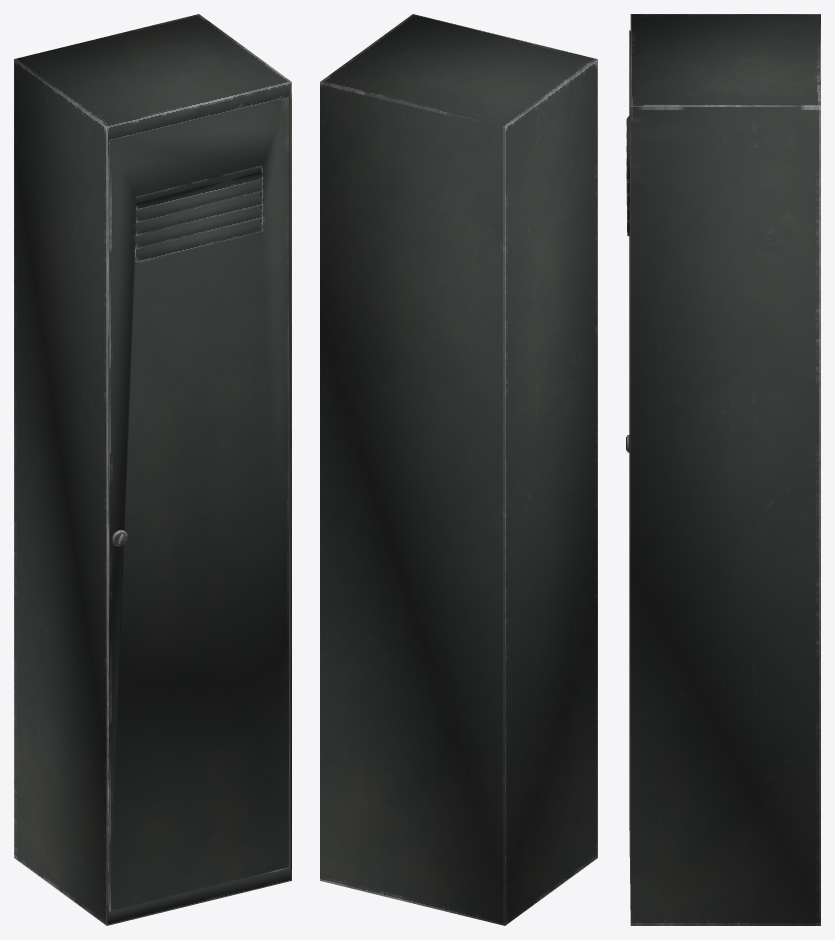
Rendered from locker_dark.glb.
The picture shows the model from 3 angles, left to right: view 1: azimuth 30°, elevation 25°; view 2: azimuth 150°, elevation 25°; view 3: azimuth 270°, elevation 25°; orthographic projection. The views are drawn at different scales.
Parts seen in each view (by area): view 1: Door, Locker; view 2: Locker; view 3: Locker, Door.
Boxes of the visible parts, x1,y1,x2,y2 form: Door: [109, 97, 288, 911]; Locker: [14, 14, 291, 925]; Locker: [320, 14, 597, 925]; Locker: [630, 14, 820, 925]; Door: [626, 30, 630, 909].
Bounding box in the file's own units: 0.3899 × 1.61 × 0.3468.
1 material, 1 textured.
